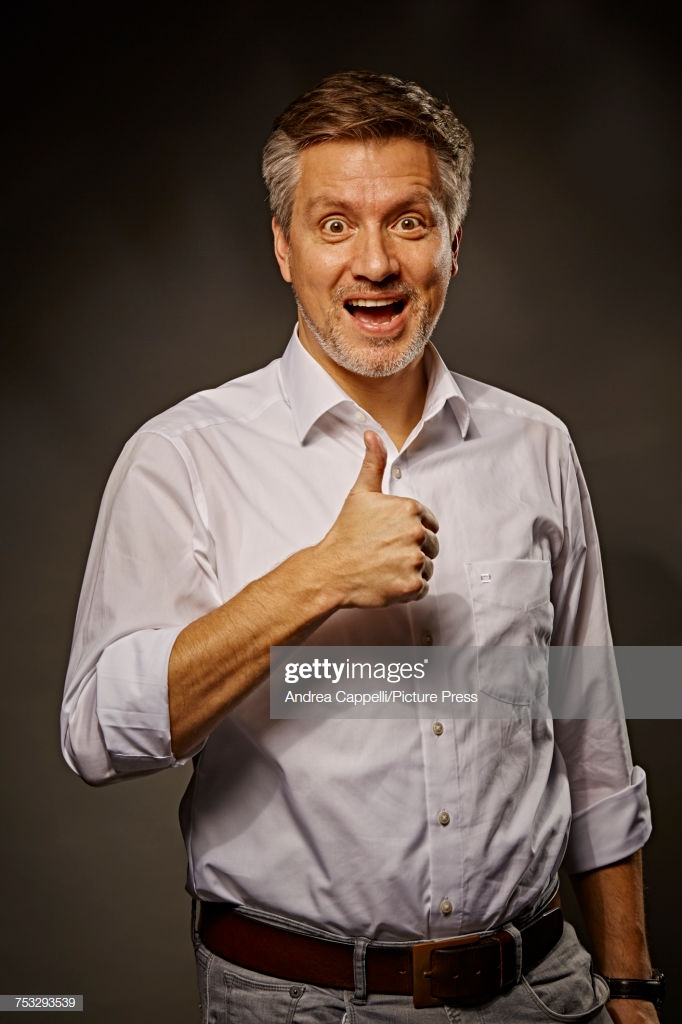thumbsup: (353, 430, 439, 606)
